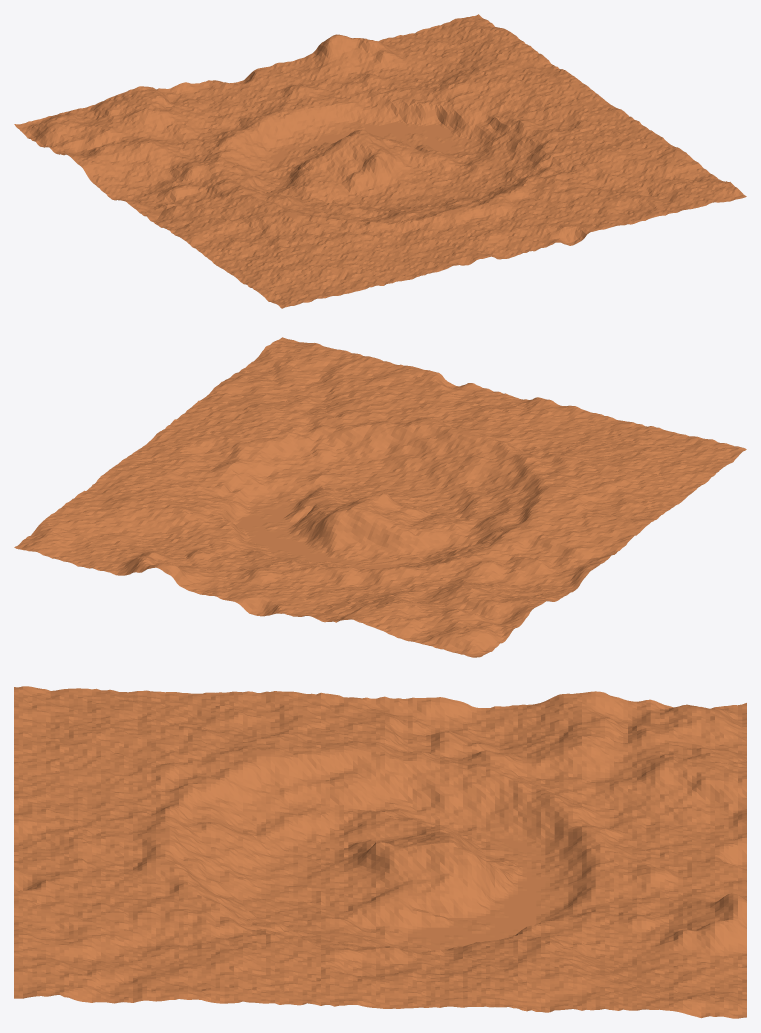
File: Terreno_Gale.obj
3 renders of one model, top to bottom at view 1: azimuth 30°, elevation 25°; view 2: azimuth 150°, elevation 25°; view 3: azimuth 270°, elevation 25°, orthographic. The views are drawn at different scales.
Visible parts, largest first — view 1: Terreno_Gale; view 2: Terreno_Gale; view 3: Terreno_Gale.
Boxes of the visible parts, x1,y1,x2,y2 form: Terreno_Gale: (14, 14, 746, 308); Terreno_Gale: (14, 337, 746, 657); Terreno_Gale: (14, 686, 746, 1018).
Bounding box in the file's own units: 1 × 0.06 × 1.
